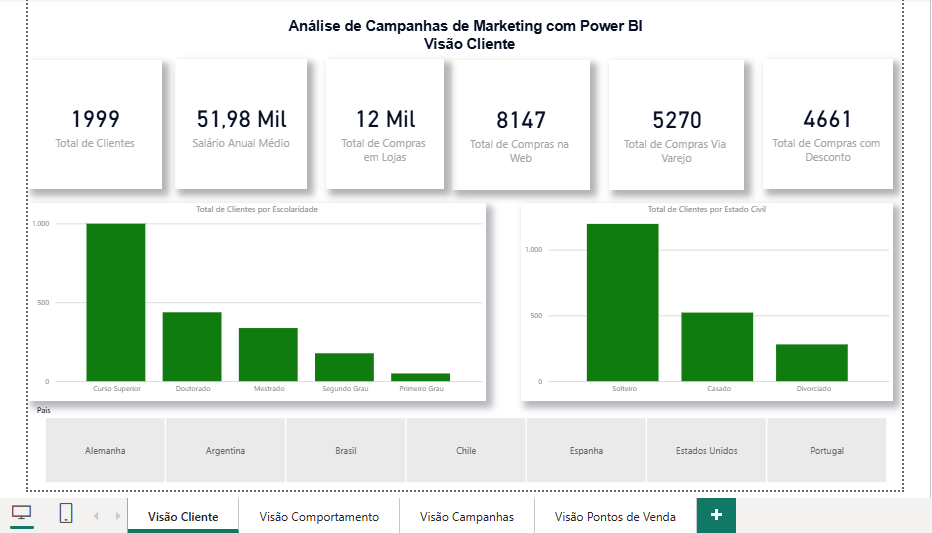

The page's visual inventory and layout, read from the dashboard file:
{"tool":"powerbi","page":{"name":"Visão Cliente","canvas":[1280,720],"ordinal":0},"visuals":[{"type":"card","fields":{"Values":["CountNonNull(DadosMarketing.ID)"]},"box":[0,90.7,196.1,188.8],"z":0},{"type":"card","fields":{"Values":["Avg(DadosMarketing.Salario Anual)"]},"box":[215.1,89.3,193.2,190.2],"z":1000},{"type":"card","fields":{"Values":["Sum(DadosMarketing.Numero de Compras na Loja)"]},"box":[436.1,89.3,172.7,190.2],"z":2000},{"type":"card","fields":{"Values":["Sum(DadosMarketing.Numero de Compras na Web)"]},"box":[620.5,90.7,202,190.2],"z":3000},{"type":"card","fields":{"Values":["Sum(DadosMarketing.Numero de Compras com Desconto)"]},"box":[1075.6,89.3,190.2,190.2],"z":4000},{"type":"card","fields":{"Values":["Sum(DadosMarketing.Numero de Compras via Catalogo)"]},"box":[850.2,90.7,197.6,190.2],"z":5000},{"type":"textbox","box":[365.9,0,548.8,89.3],"z":6000},{"type":"clusteredColumnChart","title":"Total de Clientes por Escolaridade","fields":{"Category":["DadosMarketing.Escolaridade"],"Y":["CountNonNull(DadosMarketing.ID)"]},"box":[0,300,670.2,289.8],"z":7000},{"type":"clusteredColumnChart","title":"Total de Clientes por Estado Cívil","fields":{"Category":["DadosMarketing.Estado Civil"],"Y":["CountNonNull(DadosMarketing.ID)"]},"box":[721.5,300,544.4,289.8],"z":8000},{"type":"slicer","fields":{"Values":["DadosMarketing.Pais"]},"box":[0,589.8,1280.5,125.9],"z":9000}]}

Visuals, with their boxes on the page's 1280x720 design canvas (x1, y1, x2, y2). These are canvas units, not pixel positions in the 932x533 screenshot, which may show the page scaled, cropped or inside an application window:
card - CountNonNull(DadosMarketing.ID): <region>0, 91, 196, 280</region>
card - Avg(DadosMarketing.Salario Anual): <region>215, 89, 408, 280</region>
card - Sum(DadosMarketing.Numero de Compras na Loja): <region>436, 89, 609, 280</region>
card - Sum(DadosMarketing.Numero de Compras na Web): <region>620, 91, 822, 281</region>
card - Sum(DadosMarketing.Numero de Compras com Desconto): <region>1076, 89, 1266, 280</region>
card - Sum(DadosMarketing.Numero de Compras via Catalogo): <region>850, 91, 1048, 281</region>
textbox: <region>366, 0, 915, 89</region>
"Total de Clientes por Escolaridade" clusteredColumnChart: <region>0, 300, 670, 590</region>
"Total de Clientes por Estado Cívil" clusteredColumnChart: <region>722, 300, 1266, 590</region>
slicer - DadosMarketing.Pais: <region>0, 590, 1280, 716</region>
